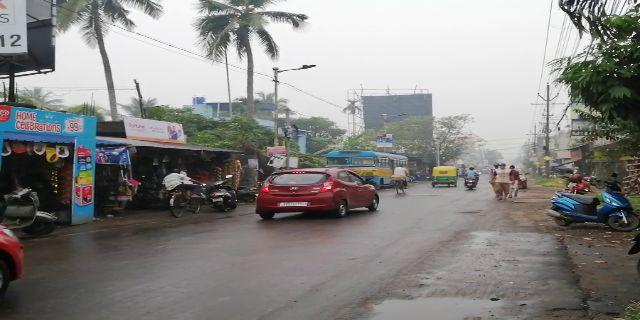Autorickshaw: (433, 165, 458, 189)
Car: (260, 169, 380, 221)
Cycle: (391, 164, 412, 199)
Motorbike: (464, 165, 479, 191)
